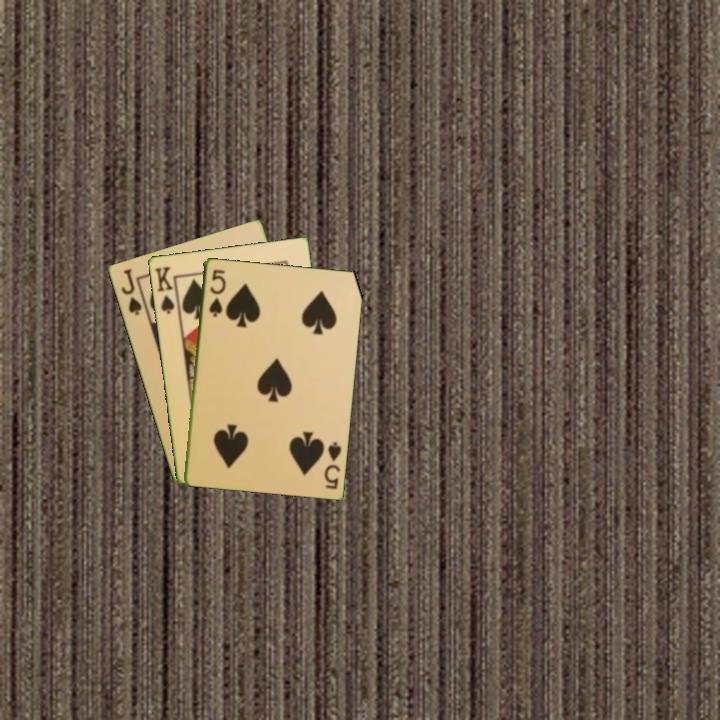5s: (320, 438, 344, 491), (205, 266, 228, 320)
Js: (117, 265, 144, 318)
Ks: (150, 262, 181, 317)
